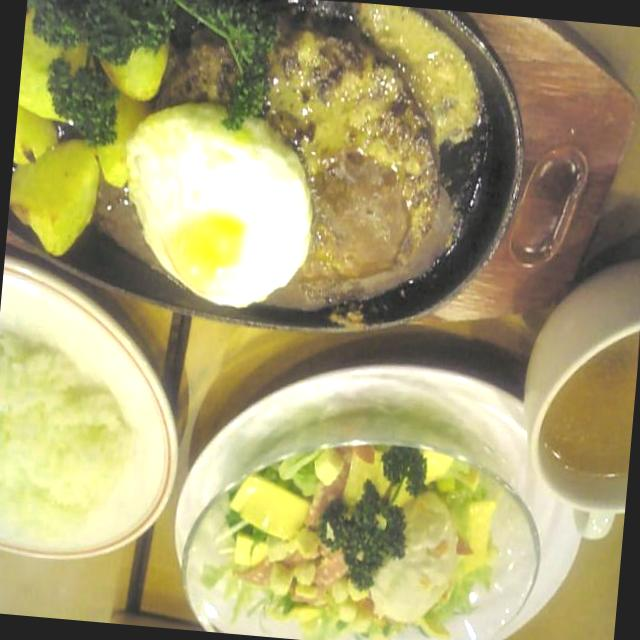Egg: (122, 100, 318, 318)
Rice: (0, 329, 146, 561)
